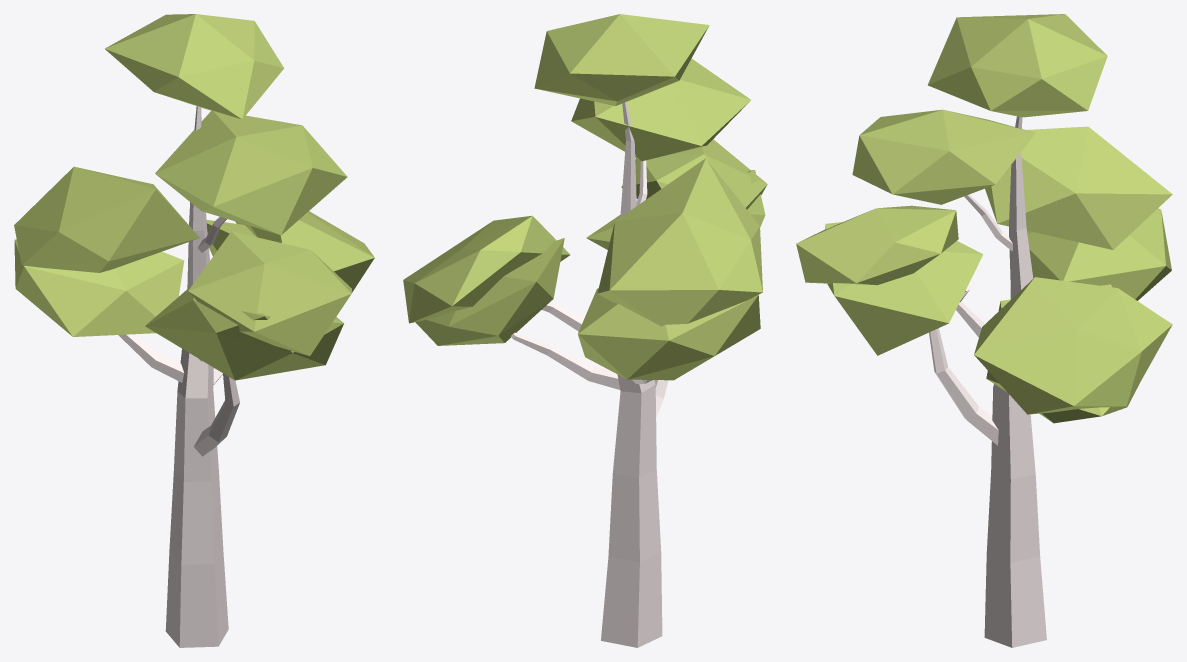
Rendered from Birch_004.fbx.
3 views of the same model, side by side, from view 1: azimuth 30°, elevation 25°; view 2: azimuth 150°, elevation 25°; view 3: azimuth 270°, elevation 25° (orthographic).
Parts seen in each view (by area): view 1: Birch.004; view 2: Birch.004; view 3: Birch.004.
Boxes of the visible parts, bbox=[...] form: Birch.004: bbox=[14, 14, 374, 647]; Birch.004: bbox=[403, 14, 767, 647]; Birch.004: bbox=[796, 14, 1172, 647].
Bounding box in the file's own units: 3.39 × 5.73 × 3.16.
